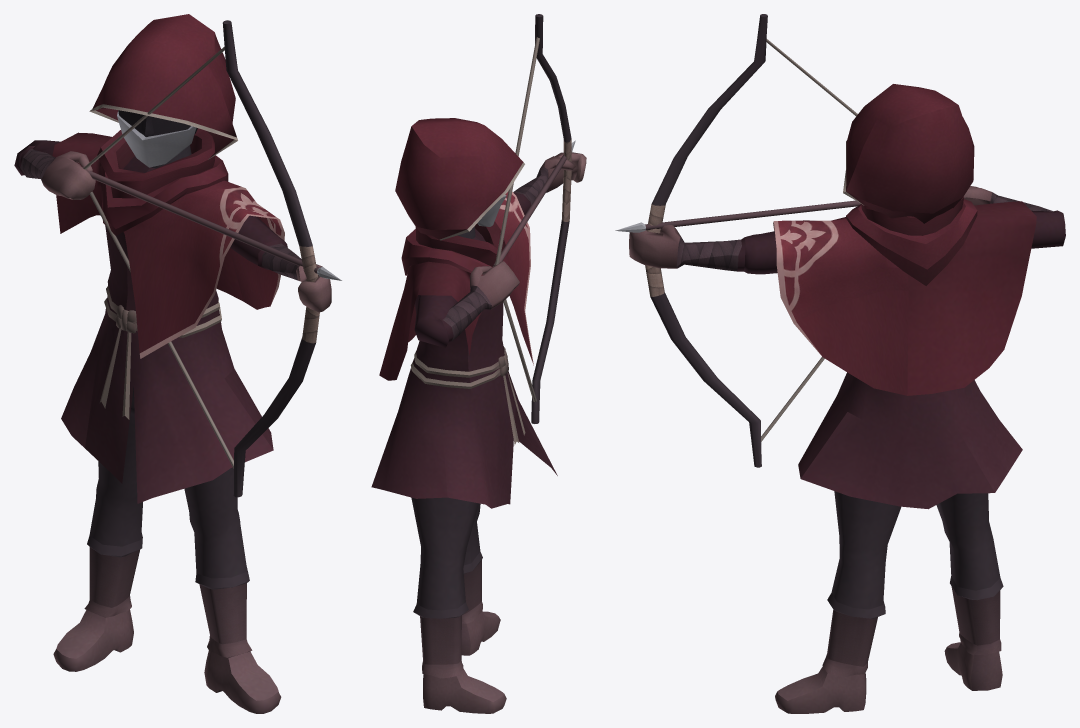
The model's file is Enemy_Ranged_Attack.FBX.
The picture shows the model from 3 angles, left to right: view 1: azimuth 30°, elevation 25°; view 2: azimuth 150°, elevation 25°; view 3: azimuth 270°, elevation 25°; orthographic projection. The views are drawn at different scales.
Visible parts, largest first — view 1: Object029, Object031, Box006, Cylinder002, Object033, Cylinder003; view 2: Object029, Box006, Object031, Cylinder002, Object033, Cylinder003; view 3: Object029, Object031, Box006, Cylinder002, Cylinder003.
Boxes of the visible parts, x1,y1,x2,y2 form: Object029: (14, 110, 331, 713); Object031: (52, 128, 284, 358); Box006: (89, 14, 237, 159); Cylinder002: (83, 20, 319, 497); Object033: (100, 286, 221, 419); Cylinder003: (88, 171, 341, 280); Object029: (371, 152, 586, 713); Box006: (395, 118, 524, 240); Object031: (379, 191, 533, 380); Cylinder002: (495, 14, 571, 423); Object033: (410, 346, 525, 445); Cylinder003: (492, 140, 575, 266); Object029: (629, 186, 1065, 713); Object031: (773, 197, 1036, 395); Box006: (843, 84, 974, 223); Cylinder002: (645, 14, 857, 467); Cylinder003: (615, 200, 860, 232).
Size of the model in its own units: 1.07 by 4.46 by 2.72.
2 materials, 2 textured.
